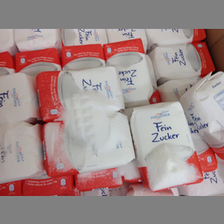sugar: (130, 99, 204, 193), (43, 114, 136, 176), (34, 65, 124, 120), (179, 71, 224, 160), (101, 37, 155, 104), (155, 39, 217, 81)
